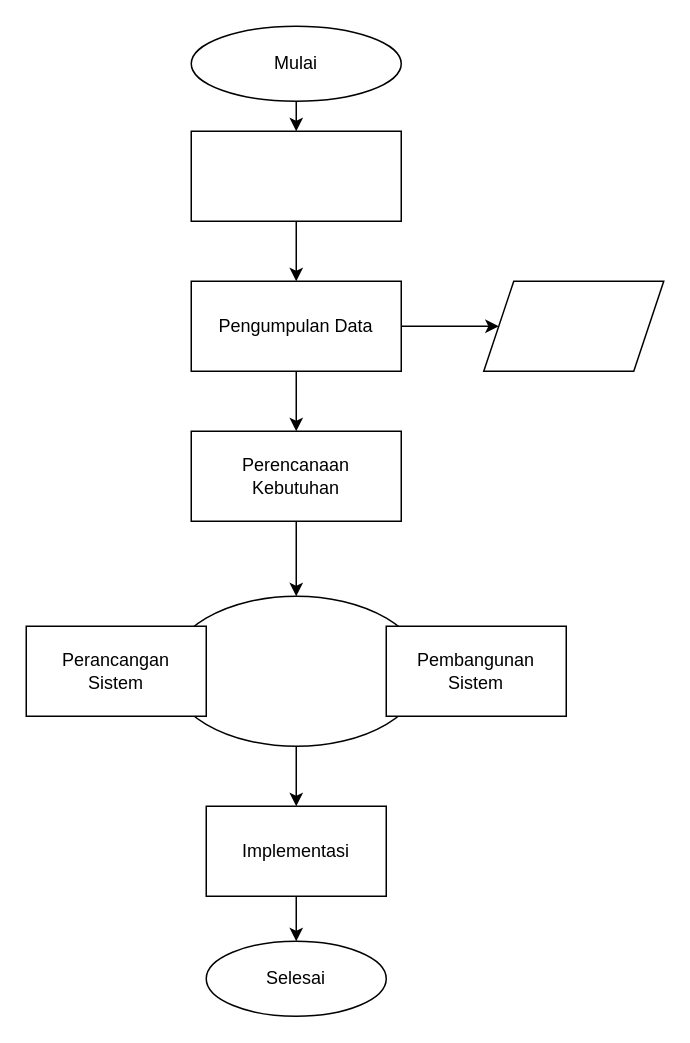
Some shapes in this 690 by 1043 pixel diagram are drawn without their labels. Each missing label, with the centre of its shape:
"1. Studi Literatur 2. Observasi" belongs at (573,325).
"Identifikasi Masalah" belongs at (295,175).
"Workshop Desain RAD" belongs at (295,670).
